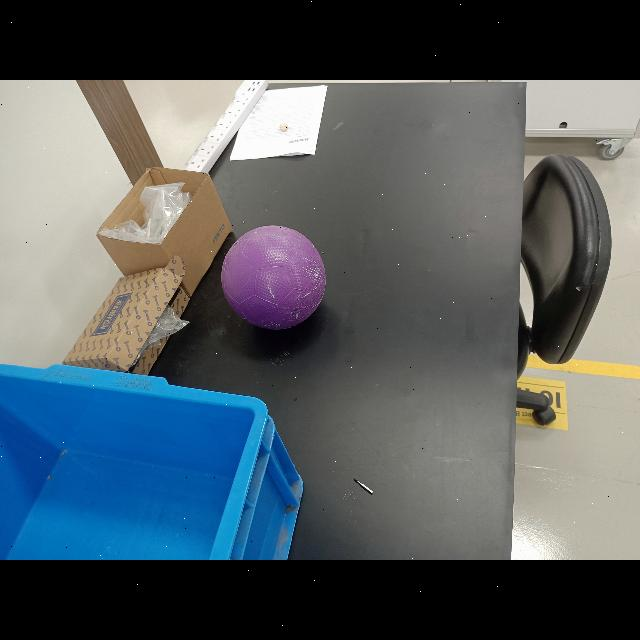P: (216, 223, 328, 333)
